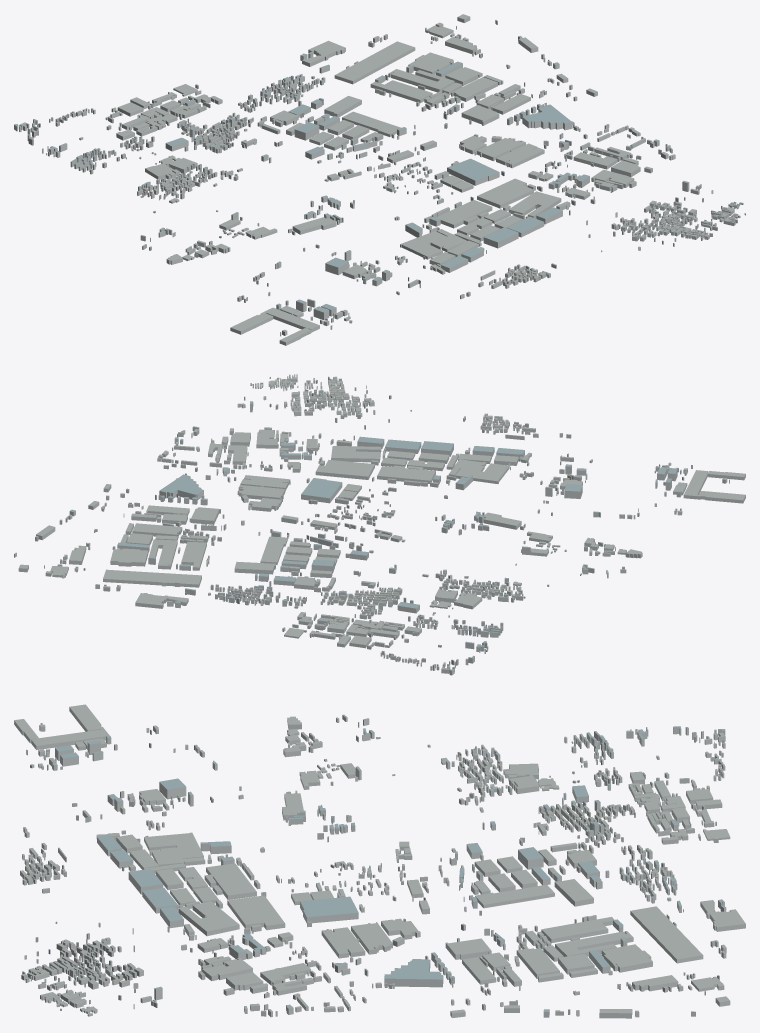
Rendered from far.glb.
The picture shows the model from 3 angles, top to bottom: view 1: azimuth 30°, elevation 25°; view 2: azimuth 150°, elevation 25°; view 3: azimuth 270°, elevation 25°; orthographic projection. The views are drawn at different scales.
Size of the model in its own units: 2184 by 36.13 by 2180.
